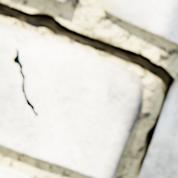brick: (0, 22, 144, 177), (139, 83, 177, 177), (102, 0, 177, 43), (0, 164, 32, 177), (56, 0, 70, 3)
crack: (0, 1, 177, 176), (14, 48, 39, 117)
